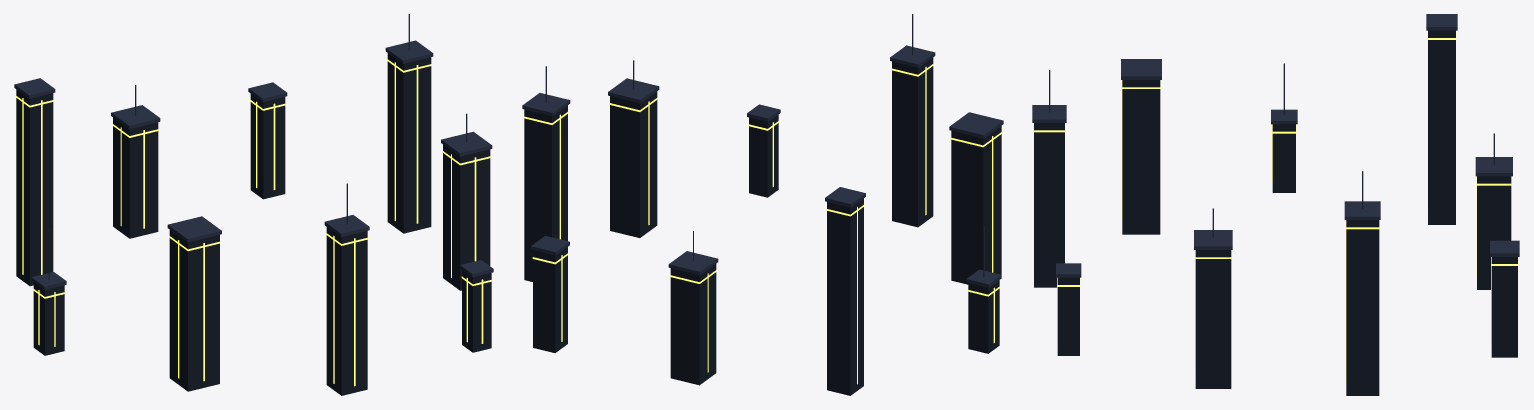
3 views of the same model, side by side, from view 1: azimuth 30°, elevation 25°; view 2: azimuth 150°, elevation 25°; view 3: azimuth 270°, elevation 25° (orthographic). The views are drawn at different scales.
Visible parts, largest first — view 1: nexo_spires_taller.lod0; view 2: nexo_spires_taller.lod0; view 3: nexo_spires_taller.lod0.
Part boxes in pixels (x1,y1,x2,y2): nexo_spires_taller.lod0: (14,14,493,395); nexo_spires_taller.lod0: (522,14,1003,395); nexo_spires_taller.lod0: (1032,14,1519,395).
Size of the model in its own units: 25.99 by 12.3 by 24.95.
